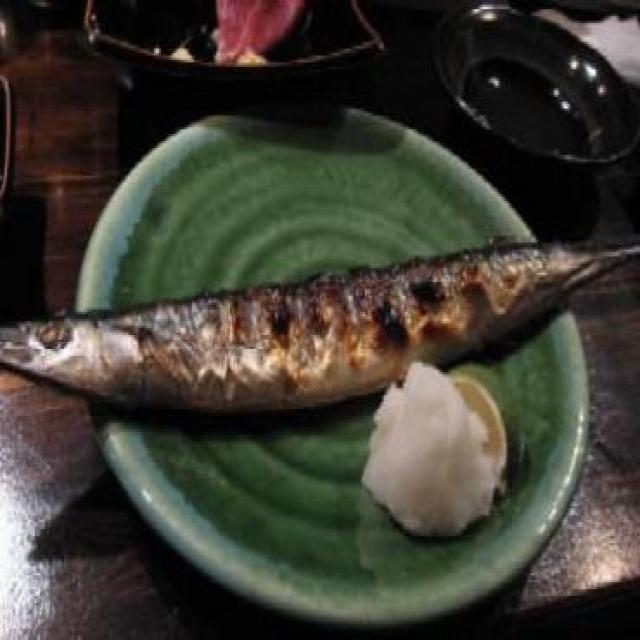熟制海鲜: (0, 229, 640, 409)
